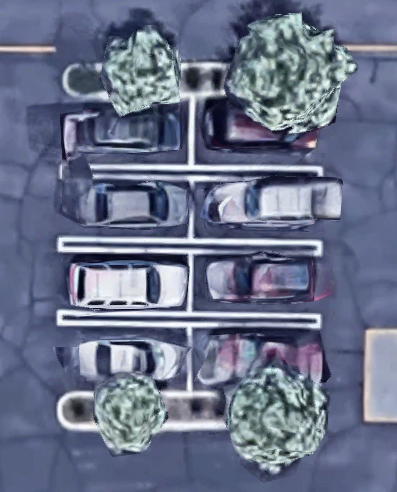Occupied: (61, 95, 192, 167), (193, 97, 322, 168), (58, 324, 190, 393), (190, 324, 320, 394), (190, 251, 321, 314), (58, 251, 190, 313), (190, 178, 319, 241), (59, 178, 190, 240)
